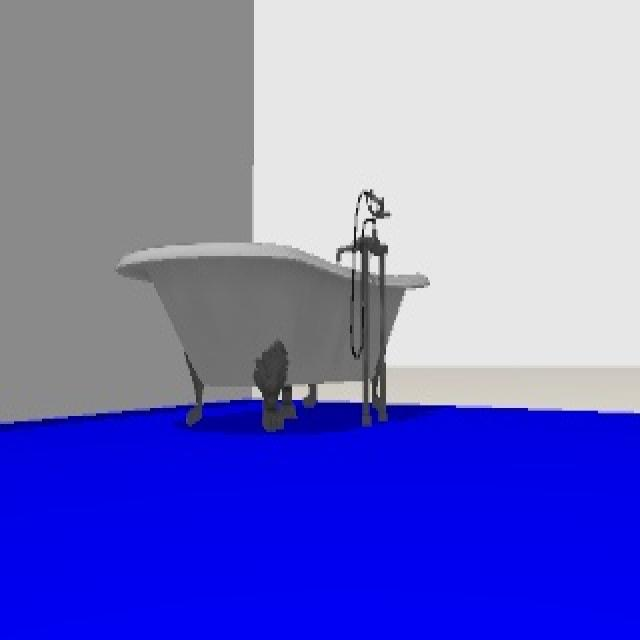bathtub: (115, 187, 432, 435)
